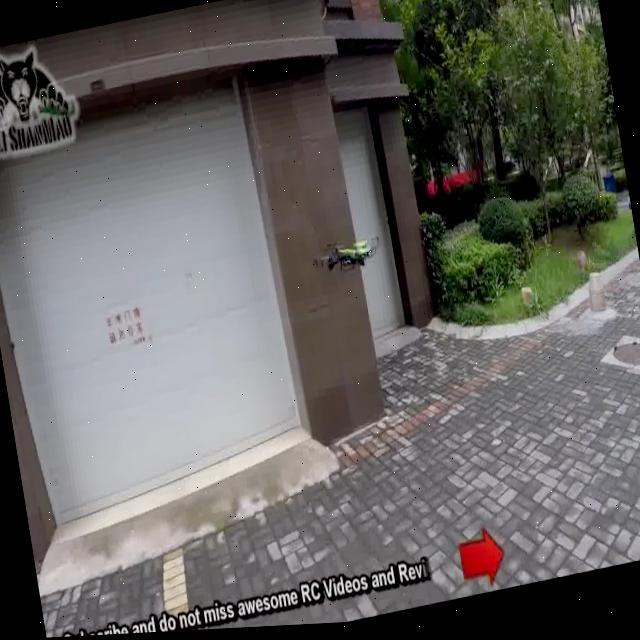drone: (308, 219, 386, 285)
